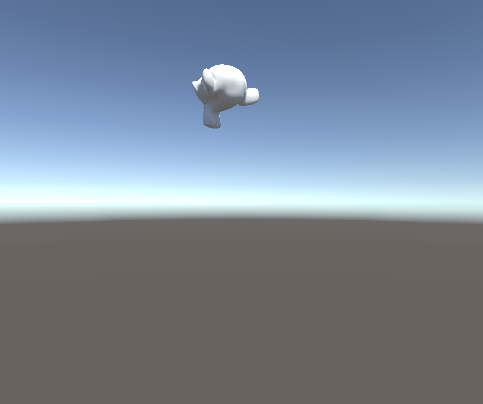monkey: (192, 63, 263, 130)
